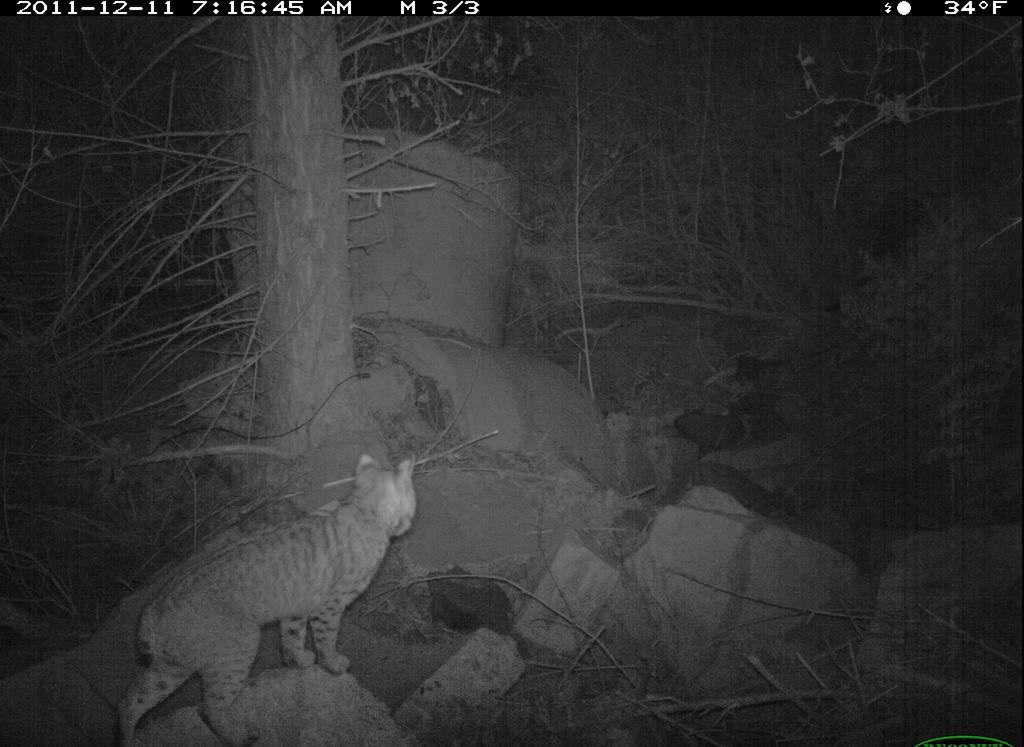bobcat: (109, 456, 428, 747)
